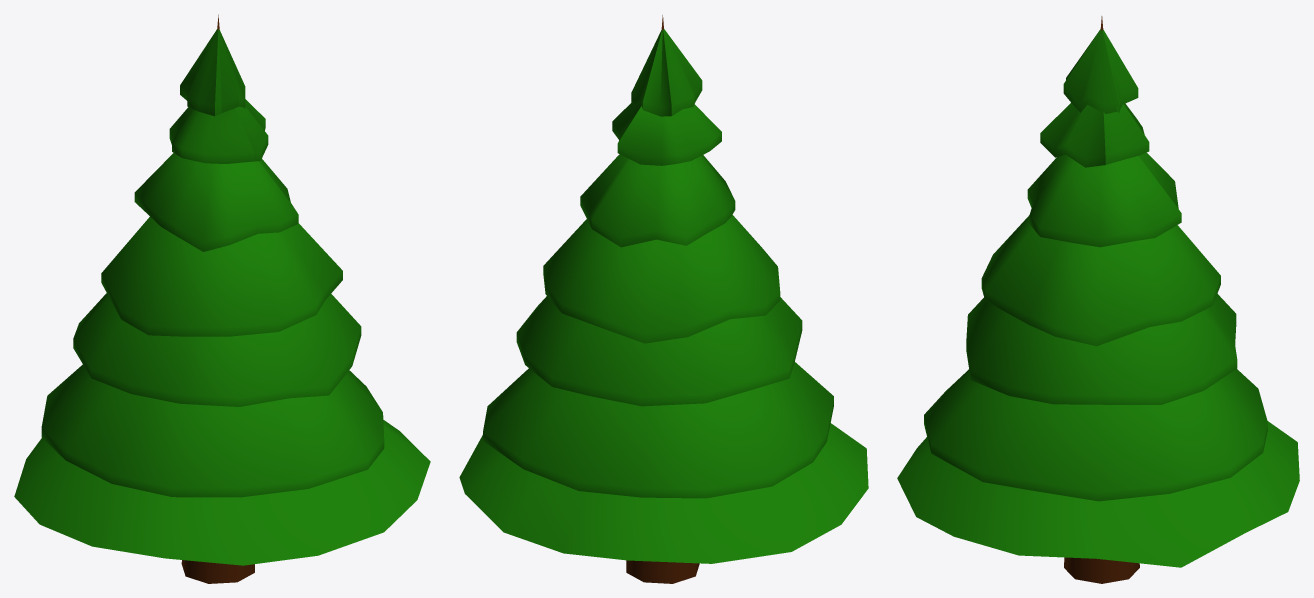
The model's file is Wood.fbx.
3 renders of one model, left to right at view 1: azimuth 30°, elevation 25°; view 2: azimuth 150°, elevation 25°; view 3: azimuth 270°, elevation 25°, orthographic.
Parts seen in each view (by area): view 1: 원뿔; view 2: 원뿔; view 3: 원뿔.
Boxes of the visible parts, box(x1,y1,x2,y2) form: 원뿔: box(14, 14, 430, 583); 원뿔: box(459, 15, 868, 583); 원뿔: box(897, 16, 1299, 583).
Size of the model in its own units: 1628 by 2416 by 1592.
